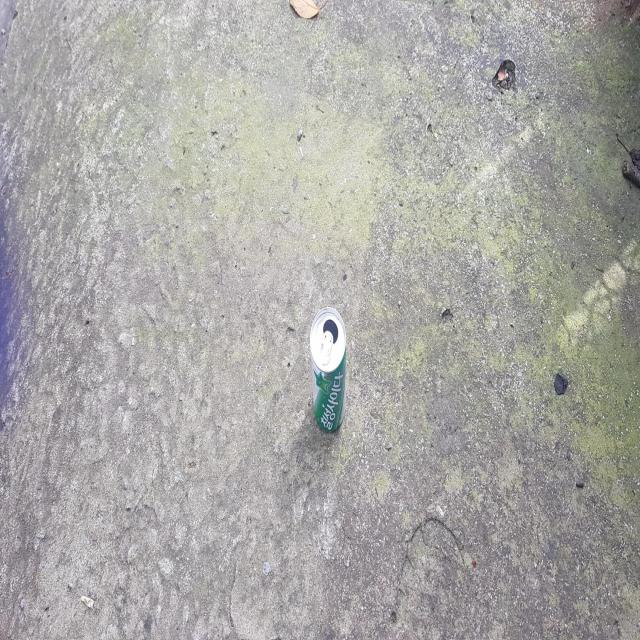can: (310, 307, 346, 431)
